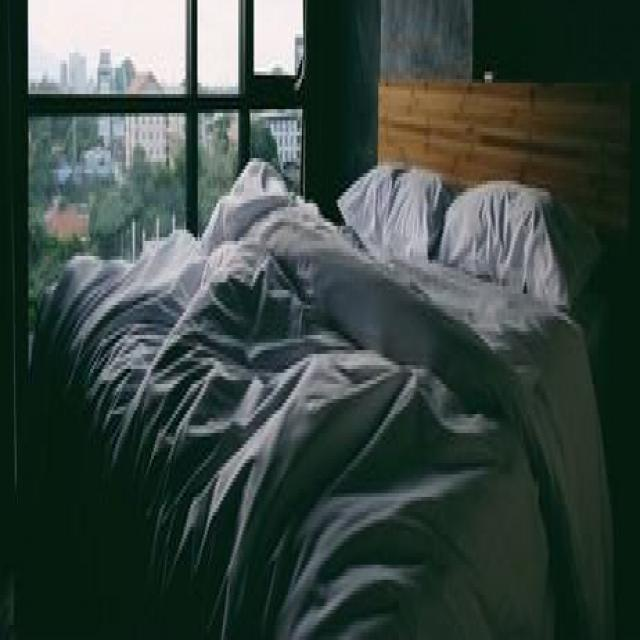bed: (29, 154, 614, 640)
